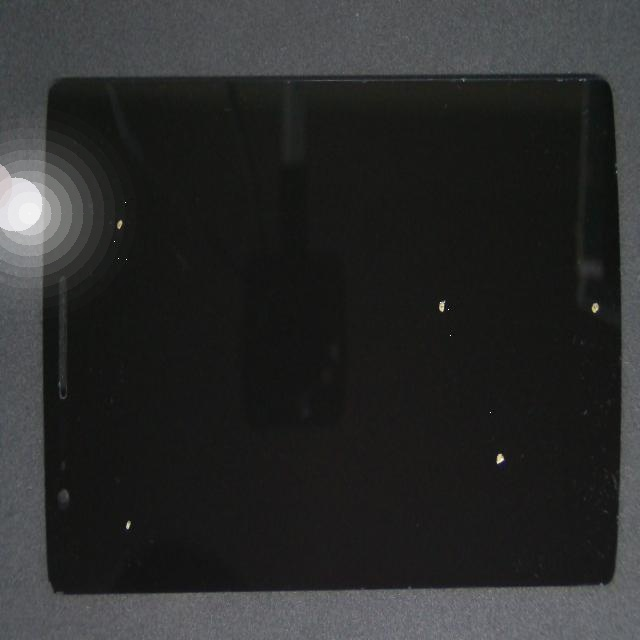stain: (200, 155, 640, 508), (243, 251, 640, 640), (276, 200, 640, 526), (58, 279, 173, 640), (30, 122, 177, 384)
